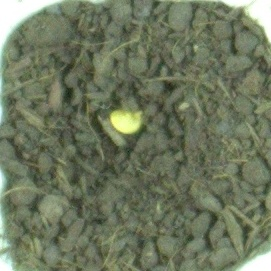pepper seed: (38, 39, 181, 175)
